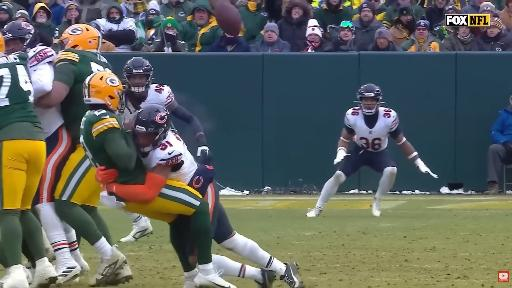Helmet: (134, 104, 170, 152), (84, 71, 125, 113), (60, 24, 101, 51), (2, 21, 38, 51), (124, 57, 153, 93), (356, 84, 383, 114), (0, 37, 5, 55)
Jersey: (55, 49, 111, 144), (80, 110, 146, 184), (0, 52, 40, 130), (143, 131, 197, 183), (345, 107, 398, 151), (123, 84, 174, 120), (28, 46, 56, 99)
Player: (81, 72, 234, 287), (133, 104, 302, 287), (35, 24, 131, 285), (307, 84, 437, 217), (0, 31, 57, 287), (33, 108, 88, 283), (123, 57, 211, 164)
